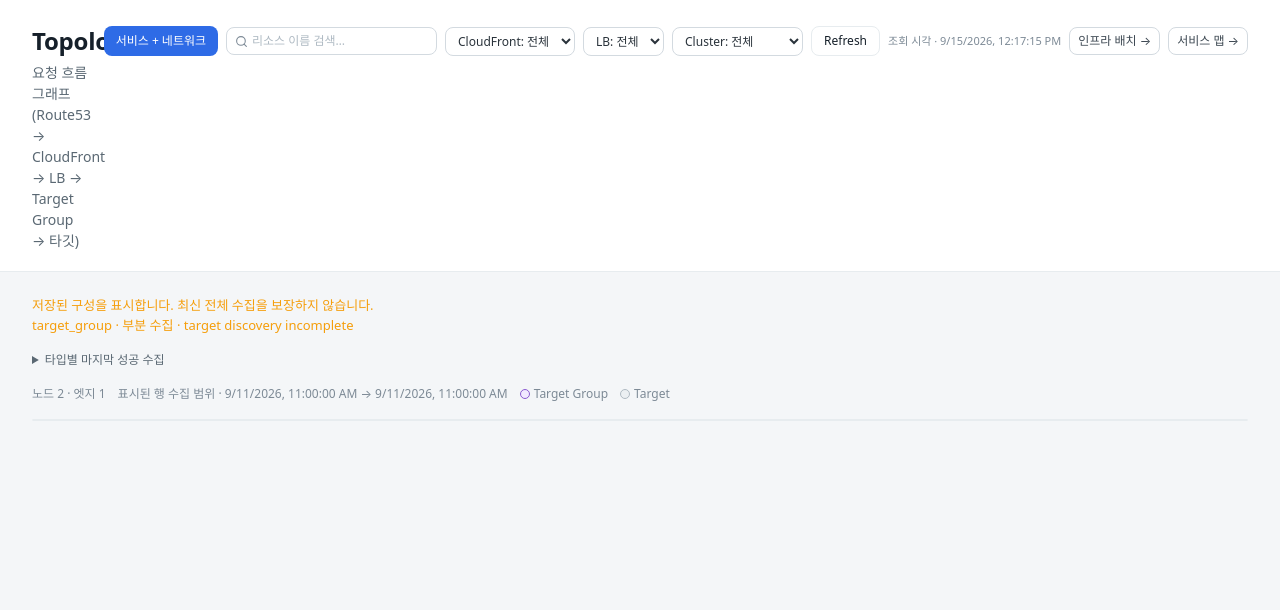
topology page URL and restored scope › keeps retained rows usable for an HTTP 200 partial run and preserves the older successful collection
The image size is (1280, 610).
Check: the button "서비스 + 네트워크" is shown, box [104,26,218,56]
Check: the message shows "부분 수집", box [122,316,174,334]
Type "tg-orders" into the field with placeholder "리소스 이름 검색…". click: (340,41)
box: [252,32,428,50]
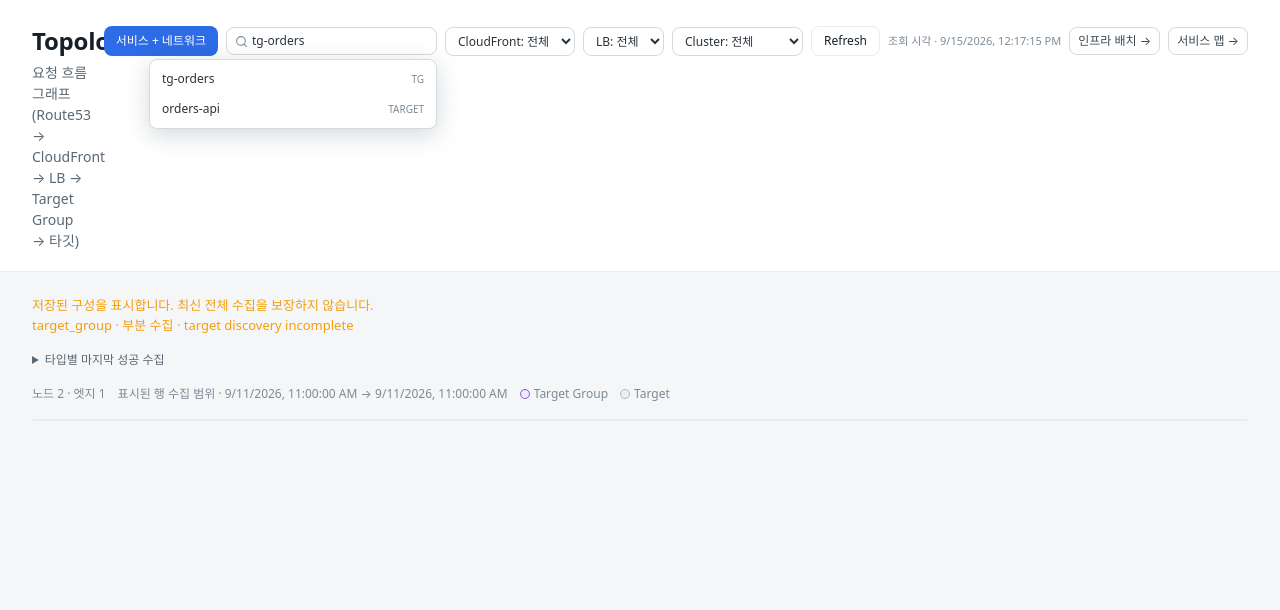
Check: the button "tg-orders tg" is shown, box [150,64,436,94]
Click the button "서비스 + 네트워크". click: (161,41)
box: [104,26,218,56]
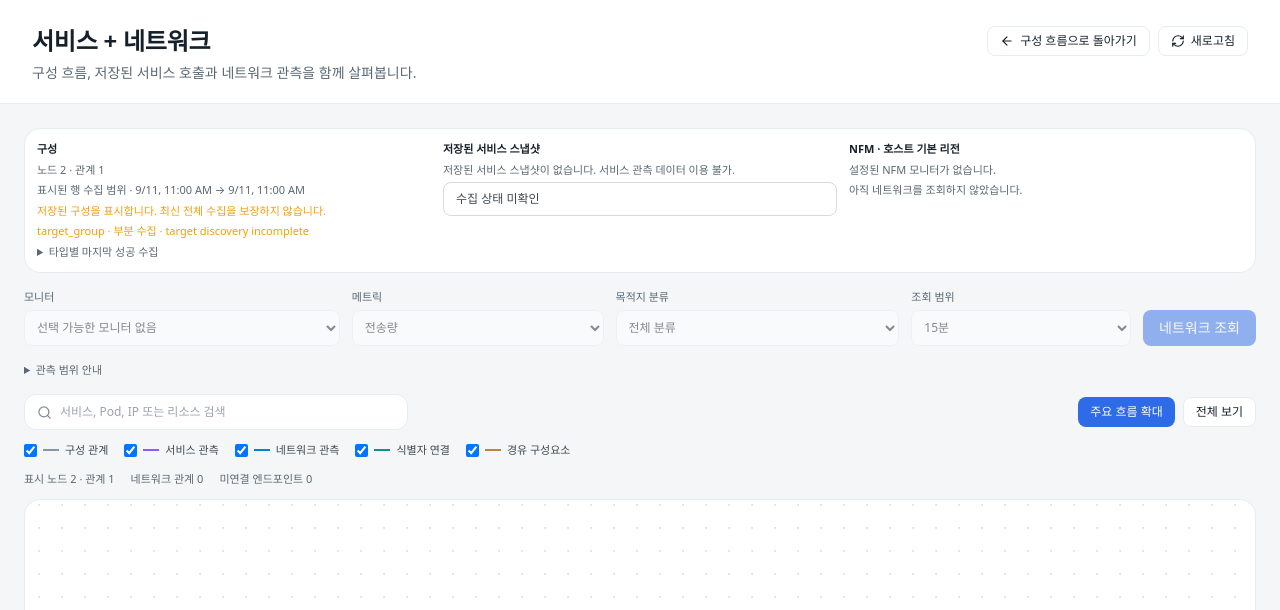
Check: the message that starts with "저장된 구성을 표시합니다. 최신 전체 수집을 보장하지 않습니다." shows "부분 수집", box [113,223,157,238]
Check: the element named "NFM 소스" is shown, box [849,141,1022,197]
